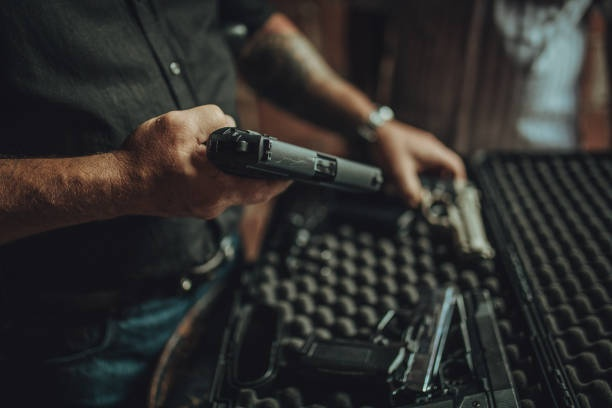pistol: (275, 280, 463, 396), (178, 120, 382, 218), (396, 179, 495, 259)
